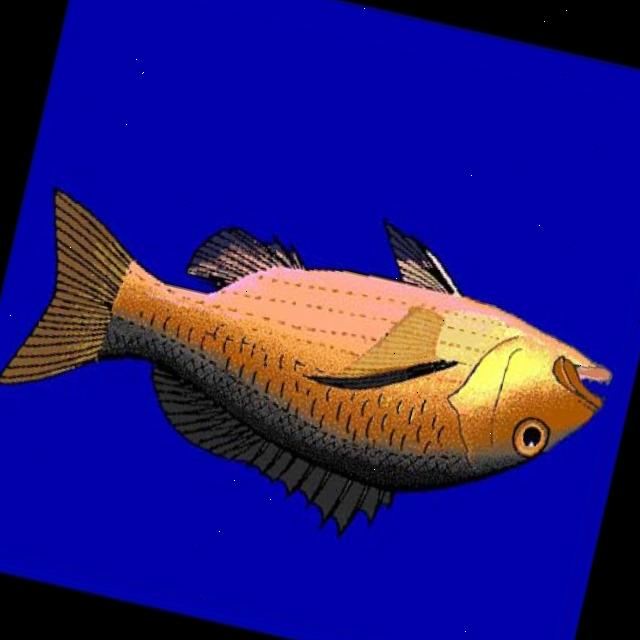ikan: (0, 145, 635, 593)
